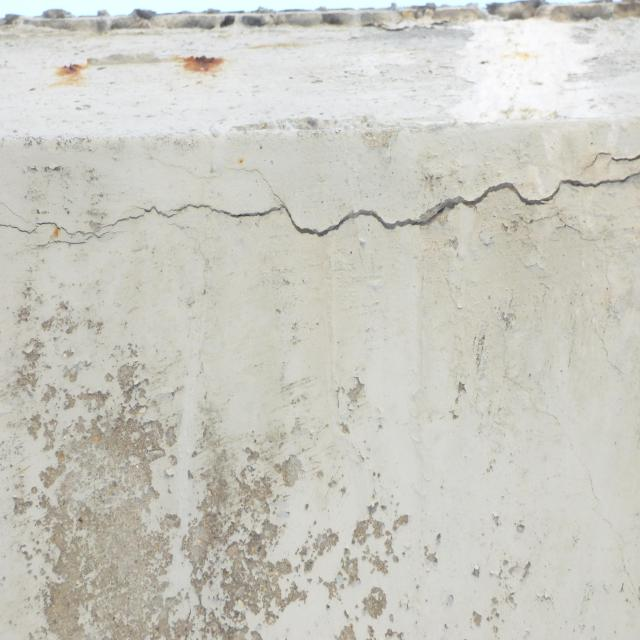horizontal crack: (0, 165, 640, 252), (449, 18, 622, 130), (582, 148, 640, 171)
vertical crack: (435, 242, 640, 600), (514, 211, 638, 384)
